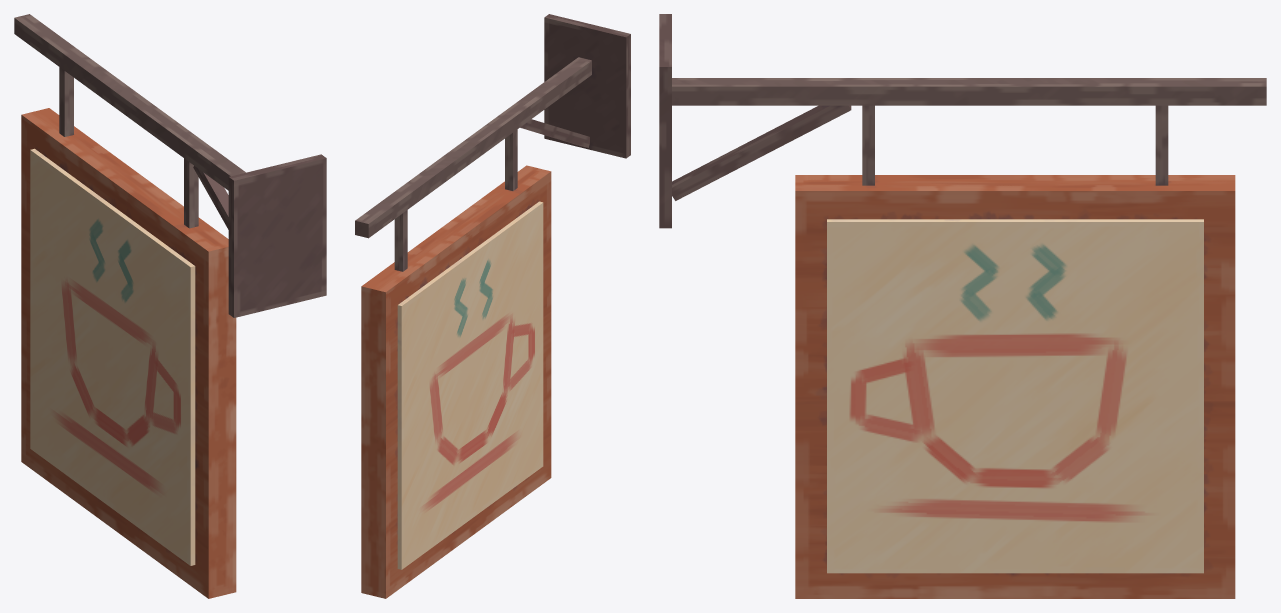
File: sign_tea.bundle.fbx
3 views of the same model, side by side, from view 1: azimuth 30°, elevation 25°; view 2: azimuth 150°, elevation 25°; view 3: azimuth 270°, elevation 25° (orthographic). The views are drawn at different scales.
Visible parts, largest first — view 1: sign_tea, sign_tea_low; view 2: sign_tea, sign_tea_low; view 3: sign_tea, sign_tea_low.
Part boxes in pixels (box(x1,y1,x2,y2)): sign_tea: box(14, 14, 326, 592); sign_tea_low: box(21, 108, 236, 598); sign_tea: box(355, 14, 630, 593); sign_tea_low: box(361, 165, 551, 598); sign_tea: box(659, 14, 1266, 593); sign_tea_low: box(795, 175, 1235, 598).
Bounding box in the file's own units: 0.6 × 2.9 × 2.9.
1 material, 1 textured.
